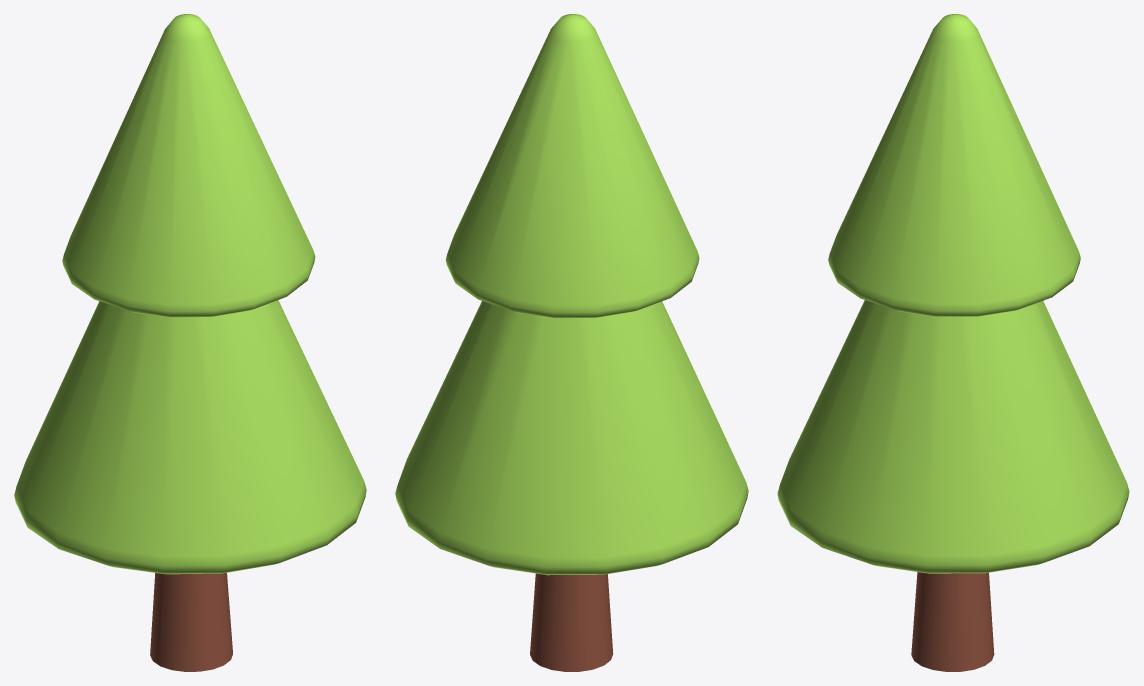
The model's file is tree1.gltf.
The picture shows the model from 3 angles, left to right: view 1: azimuth 30°, elevation 25°; view 2: azimuth 150°, elevation 25°; view 3: azimuth 270°, elevation 25°; orthographic projection.
Visible parts, largest first — view 1: detail_forestB.003; view 2: detail_forestB.003; view 3: detail_forestB.003.
Boxes of the visible parts, left/top/right/bottom form: detail_forestB.003: left=14, top=14, right=366, bottom=671; detail_forestB.003: left=395, top=14, right=748, bottom=671; detail_forestB.003: left=777, top=14, right=1129, bottom=671.
Size of the model in its own units: 0.0652 by 0.1319 by 0.066.
